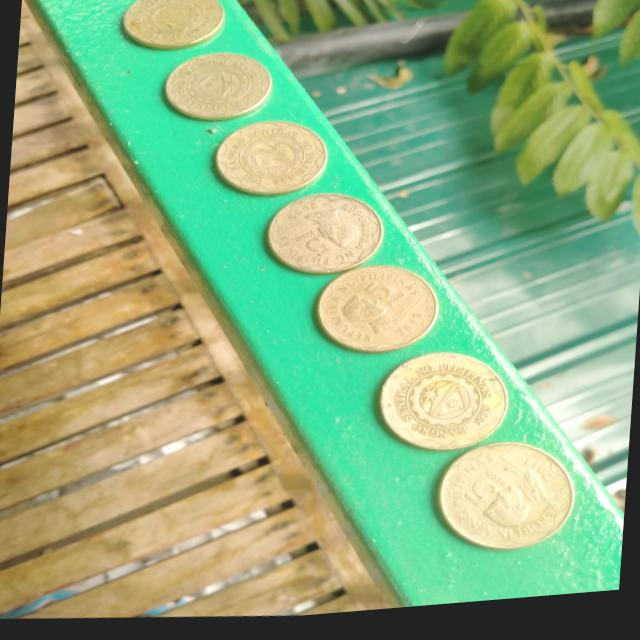5_Old_Back: (388, 358, 506, 458)
5_Old_Front: (278, 199, 369, 271)
